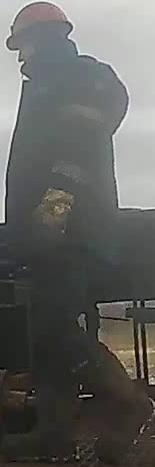gloves: (23, 175, 79, 255)
helmet: (3, 1, 75, 51)
vest: (0, 64, 120, 258)
